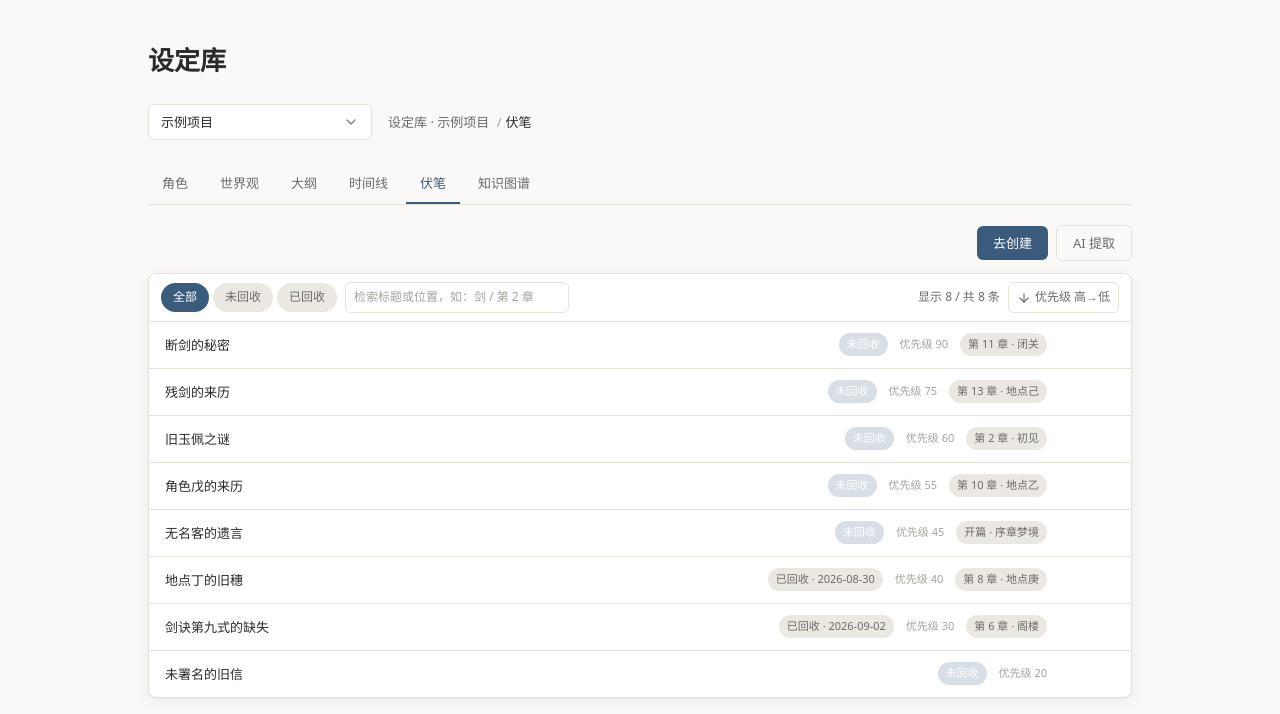
Test: #1376 状态筛选：服务端下沉（total 跟随筛选口径） › 点「未回收」→ 请求带 status=open 且仍带 limit/offset；列表仅剩未回收（8→6）
Click the button with test id "fs-status-chip-open": {"x": 243, "y": 298} [213,283,273,312]
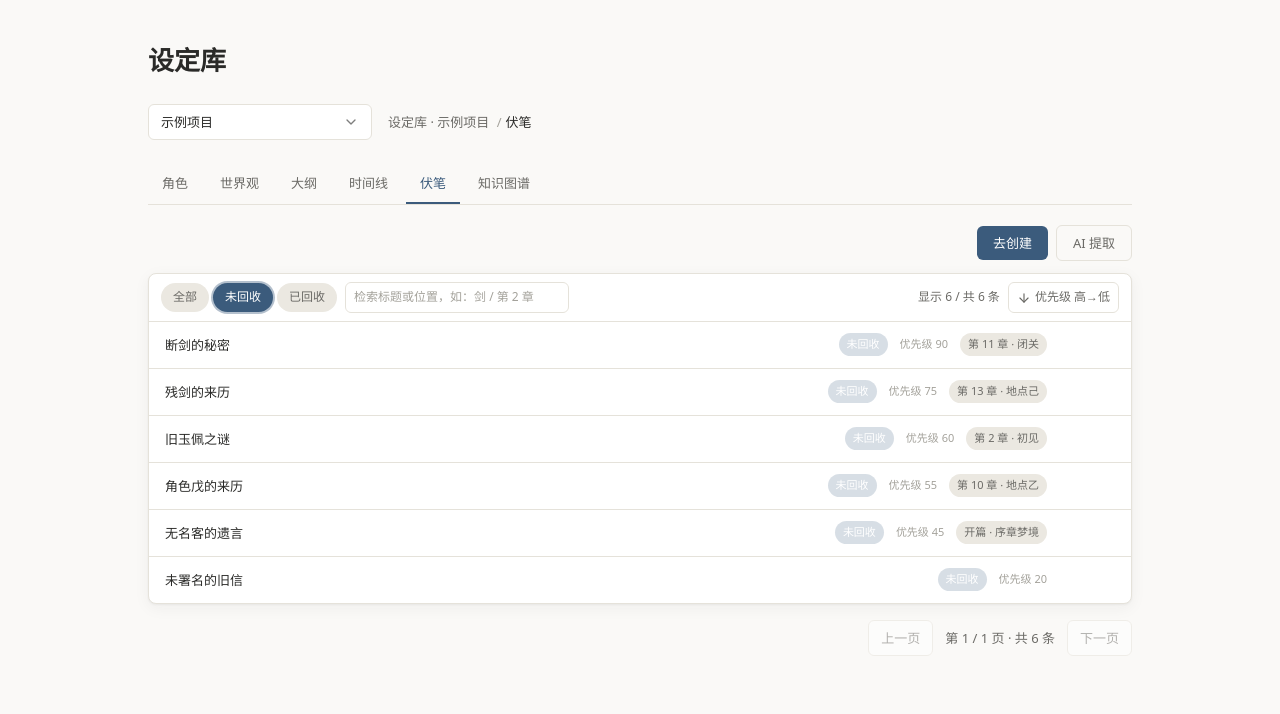
Now the element with test id "library-list" no longer shows "地点丁的旧穗", box [148,273,1132,604]
Now the element with test id "library-list" no longer shows "剑诀第九式的缺失", box [148,273,1132,604]
Now the text with test id "fs-count" reads "显示 6 / 共 6 条", box [918,288,1000,305]
